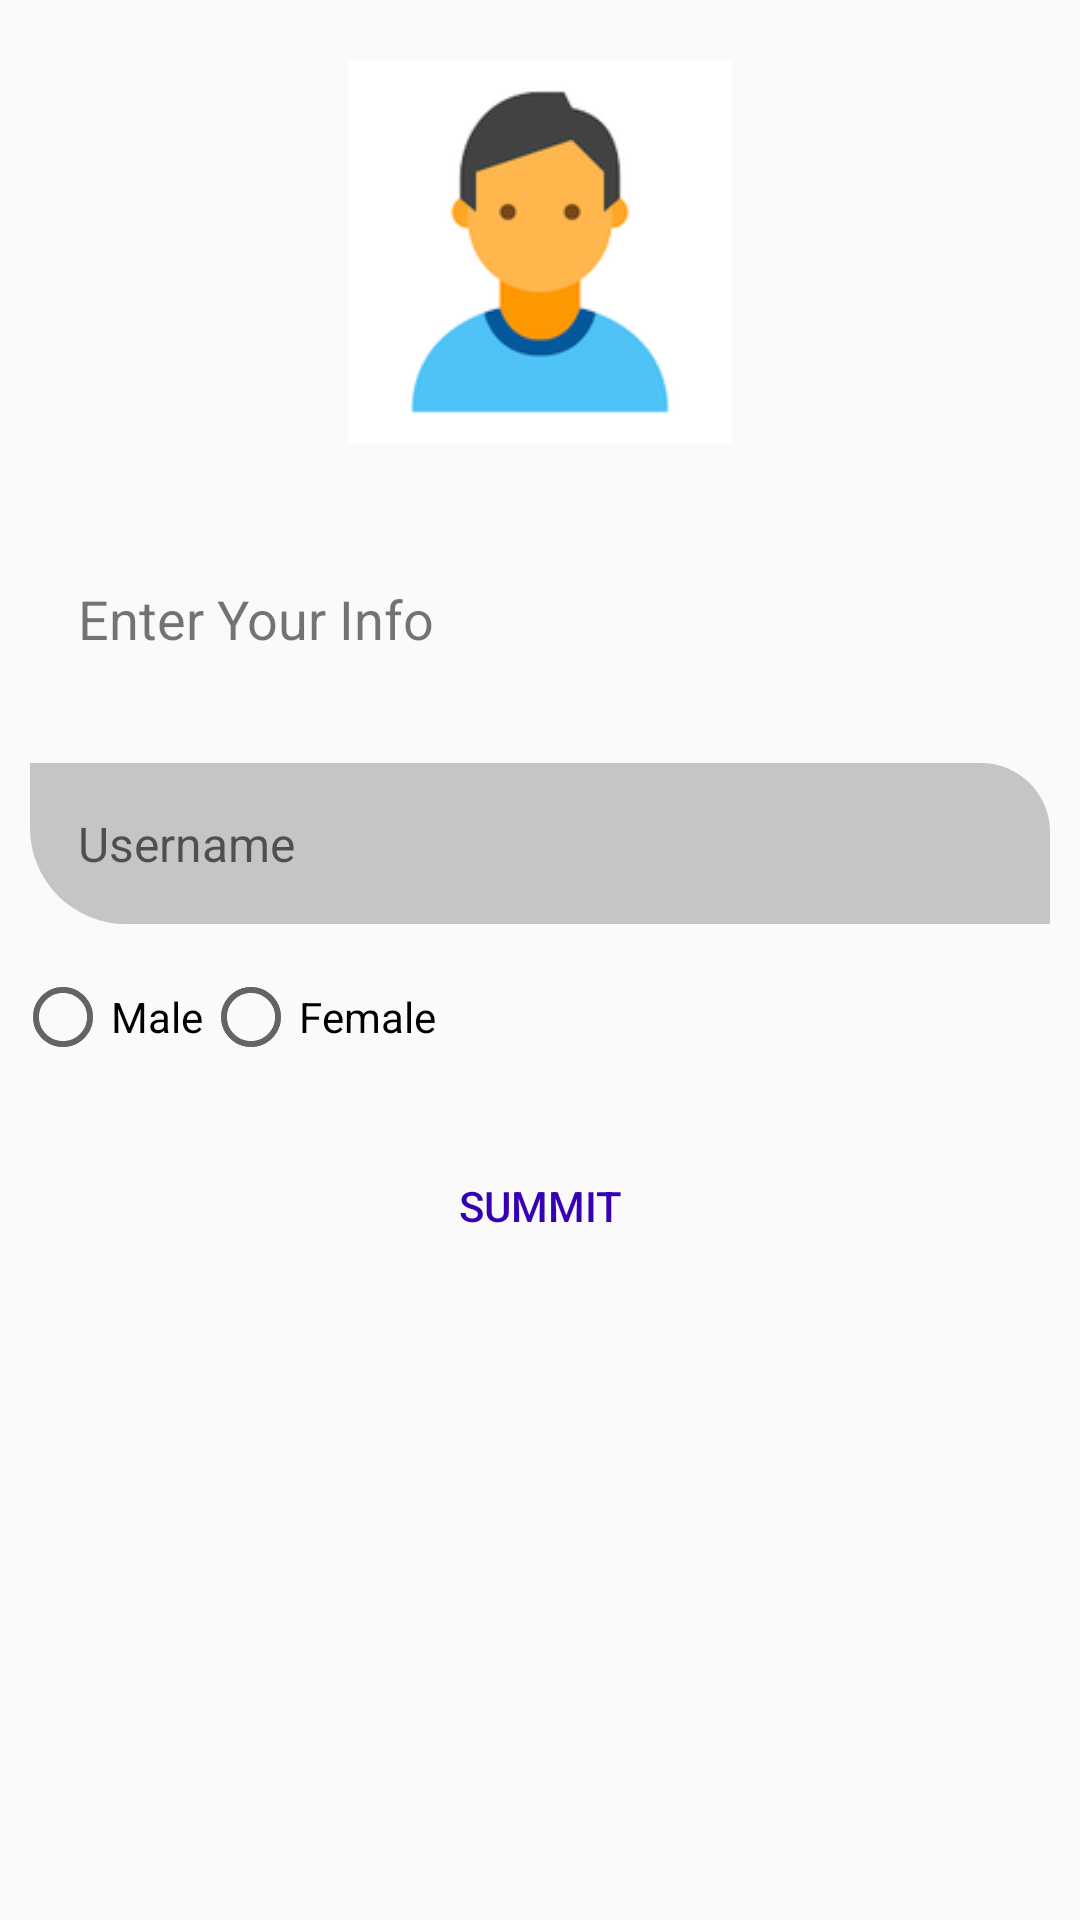

Point at icon controls on the screen. Image size 1080 × 1920, points as [x,y].
person: [540,252]
